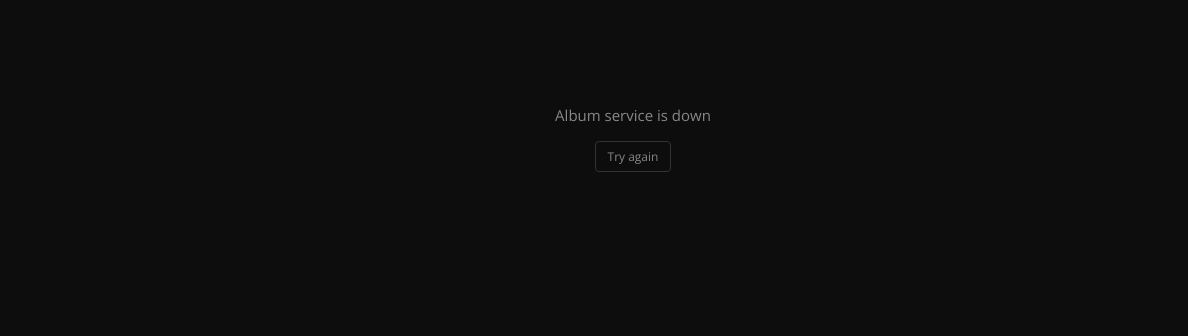
Test: /album/<slug> whose album cannot be reached › shows the album after Try again once the failure is over
The image size is (1188, 336).
Click the button with class "address-action": (633, 156) left=594, top=140, right=671, bottom=172
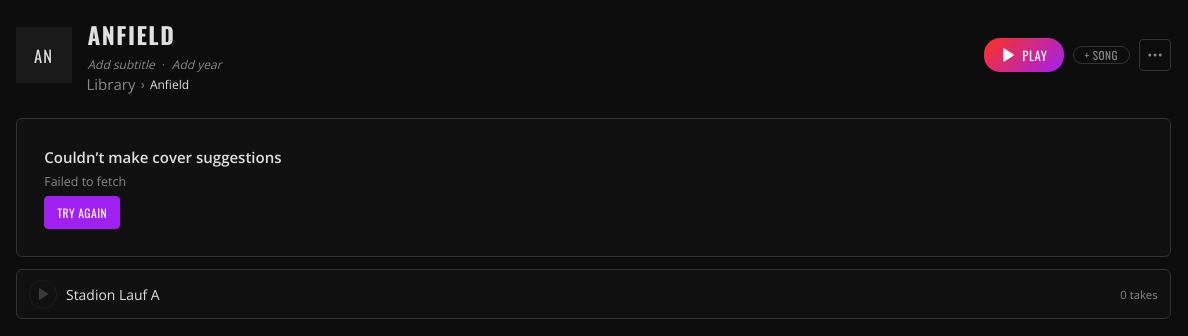
Result: the text "Anfield" is shown at left=86, top=16, right=180, bottom=53
Result: the text "Stadion Lauf A" is shown at left=66, top=285, right=160, bottom=304
